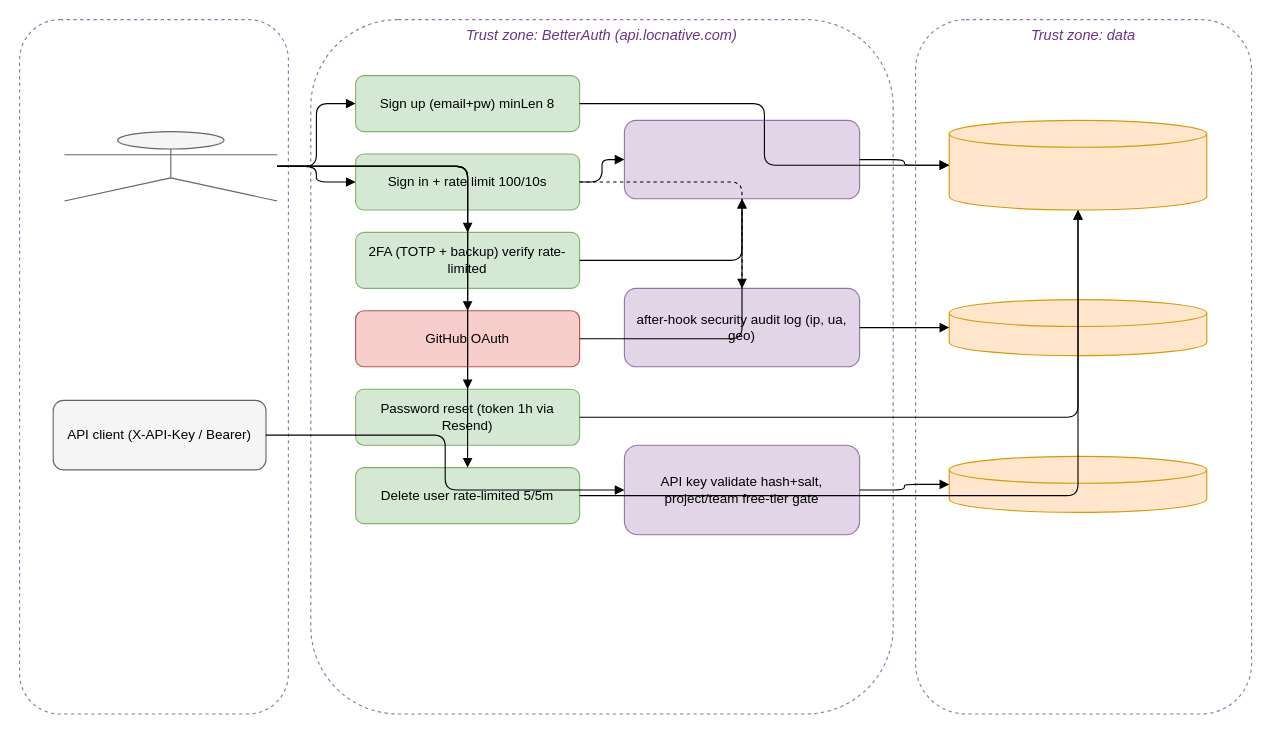
The diagram is 1271 pixels wide and 734 high, and some of its shapes have lost their labels. The shapes that lost their labels are listed below. From the top down, each one's box as (x1, y1, x2, y2) in pixels, then its label:
(63, 130, 277, 201): User
(623, 119, 860, 199): Session + cookie SameSite=None;Secure .locnative.com
(948, 119, 1207, 210): users · sessions · accounts · verifications · twoFactors
(948, 298, 1207, 356): security_audit_log
(18, 18, 288, 714): Trust zone: public internet
(948, 455, 1207, 512): api_keys (secret_hash)
